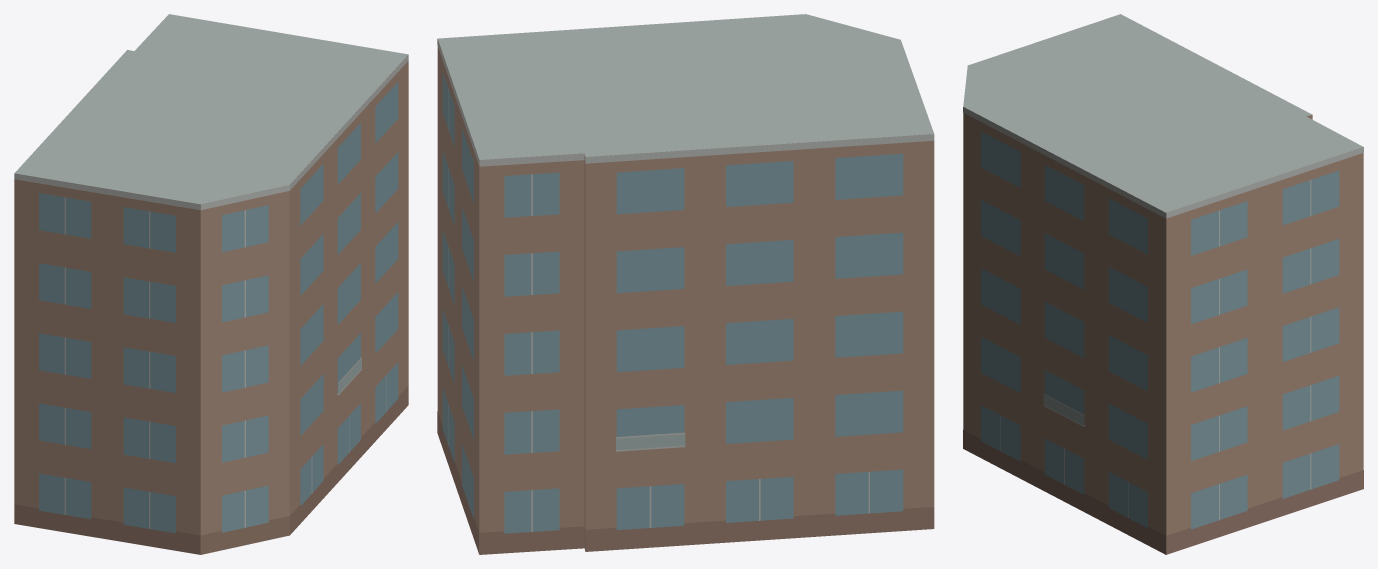
The model's file is survey-upis-32649528.glb.
The picture shows the model from 3 angles, left to right: view 1: azimuth 30°, elevation 25°; view 2: azimuth 150°, elevation 25°; view 3: azimuth 270°, elevation 25°; orthographic projection. The views are drawn at different scales.
Parts seen in each view (by area): view 1: survey-upis-32649528.tmp; view 2: survey-upis-32649528.tmp; view 3: survey-upis-32649528.tmp.
Boxes of the visible parts, x1=… form: survey-upis-32649528.tmp: x1=14, y1=14, x2=408, y2=554; survey-upis-32649528.tmp: x1=437, y1=14, x2=934, y2=554; survey-upis-32649528.tmp: x1=963, y1=14, x2=1363, y2=554.
Size of the model in its own units: 18.03 by 14.45 by 15.35.
